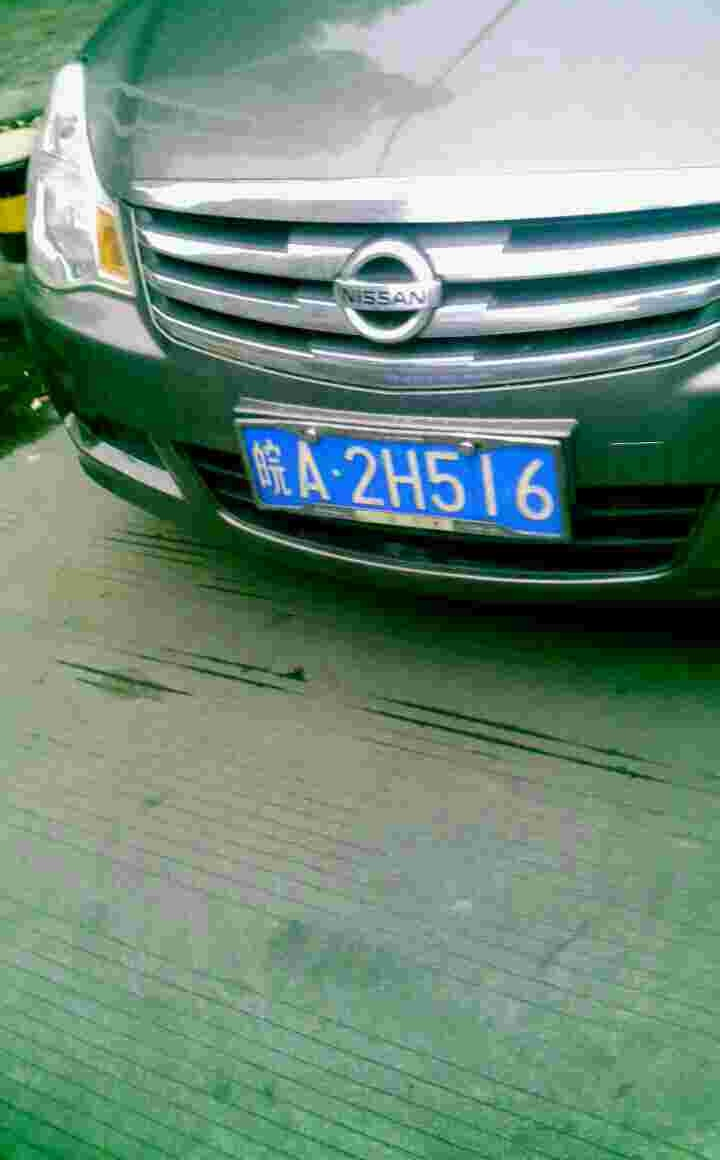license_plate: (256, 437, 575, 531)
